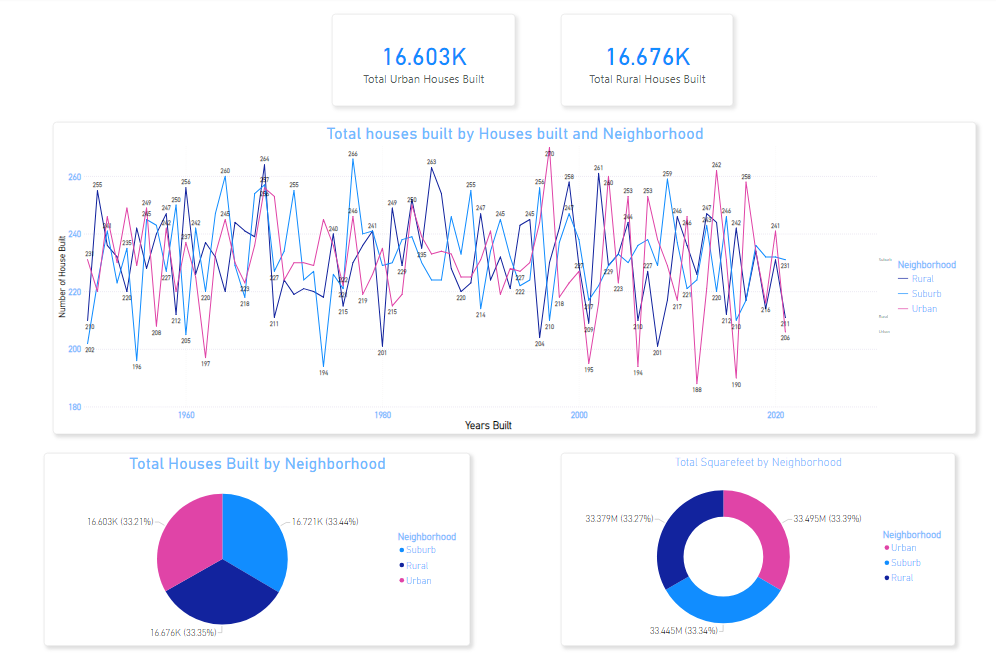

What the dashboard file says about the page in this screenshot:
{"tool":"powerbi","page":{"name":"Page 1","canvas":[3000,2000],"ordinal":0},"visuals":[{"type":"card","fields":{"Values":["Sum(Total_Rural_Houses.Column2)"]},"box":[1684.5,50.6,511.9,273.8],"z":0},{"type":"card","fields":{"Values":["Sum(Total_Urban_Houses.Column2)"]},"box":[1003,50.6,544.6,273.8],"z":1000},{"type":"pieChart","fields":{"Category":["Total_House_By_Neighborhood.Column1"],"Y":["Sum(Total_House_By_Neighborhood.Column2)"]},"box":[145.8,1357.1,1267.9,574.4],"z":2000},{"type":"donutChart","fields":{"Category":["Total_SquarFeet_By_Neighborhood.Column1"],"Y":["Sum(Total_SquarFeet_By_Neighborhood.Column2)"]},"box":[1684.5,1357.1,1172.6,574.4],"z":3000},{"type":"lineChart","fields":{"Y":["Sum(Total_Houses_Built_Every_Year.Column3)"],"Series":["Total_Houses_Built_Every_Year.Column1"],"Category":["Total_Houses_Built_Every_Year.Column2"]},"box":[172.6,372,2747,928.6],"z":4000}]}

Visuals, with their boxes in screenshot pixels (x1, y1, x2, y2), scaled from the page's 3000x2000 canvas onto the 996x668 screenshot:
card - Sum(Total_Rural_Houses.Column2): [559,17,729,108]
card - Sum(Total_Urban_Houses.Column2): [333,17,514,108]
pieChart - Total_House_By_Neighborhood.Column1 x Sum(Total_House_By_Neighborhood.Column2): [48,453,469,645]
donutChart - Total_SquarFeet_By_Neighborhood.Column1 x Sum(Total_SquarFeet_By_Neighborhood.Column2): [559,453,949,645]
lineChart - Sum(Total_Houses_Built_Every_Year.Column3) x Total_Houses_Built_Every_Year.Column1: [57,124,969,434]
